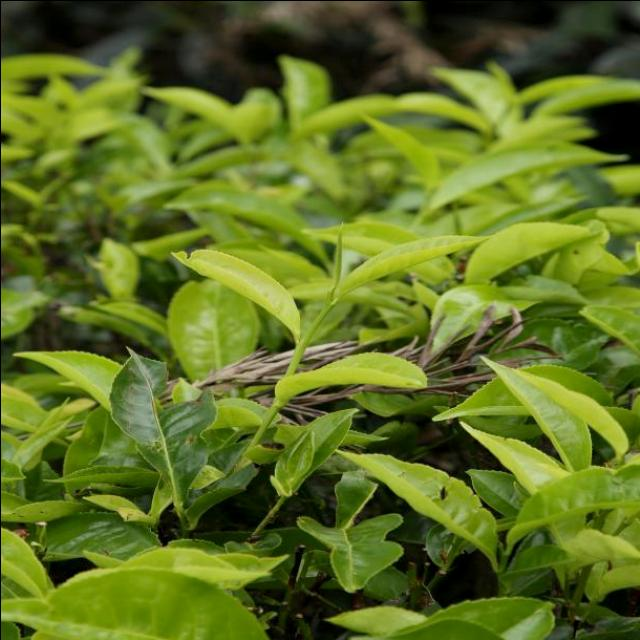Stem: (321, 300, 333, 313)
